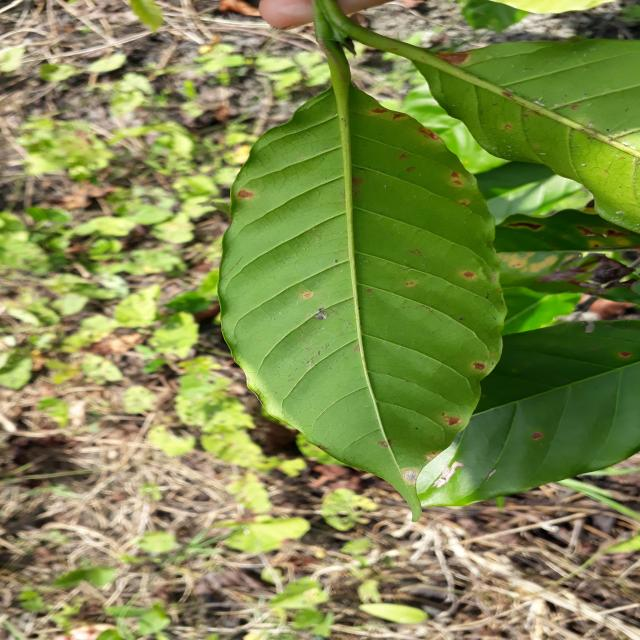Enfermedad-Roya: (218, 15, 507, 513)
